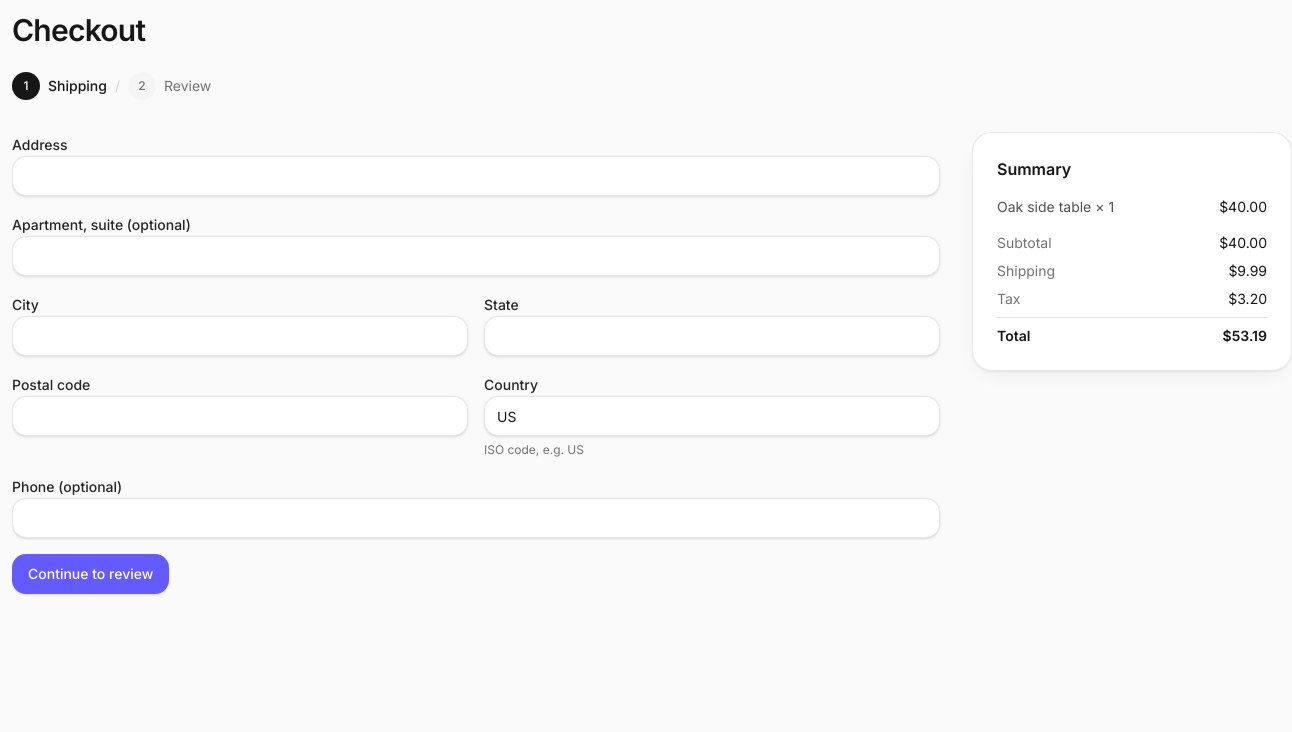
Scenario: Checkout form › validates shipping fields before creating an order
Click the button "Continue to review" at x=91, y=574, box [12,554,169,594]
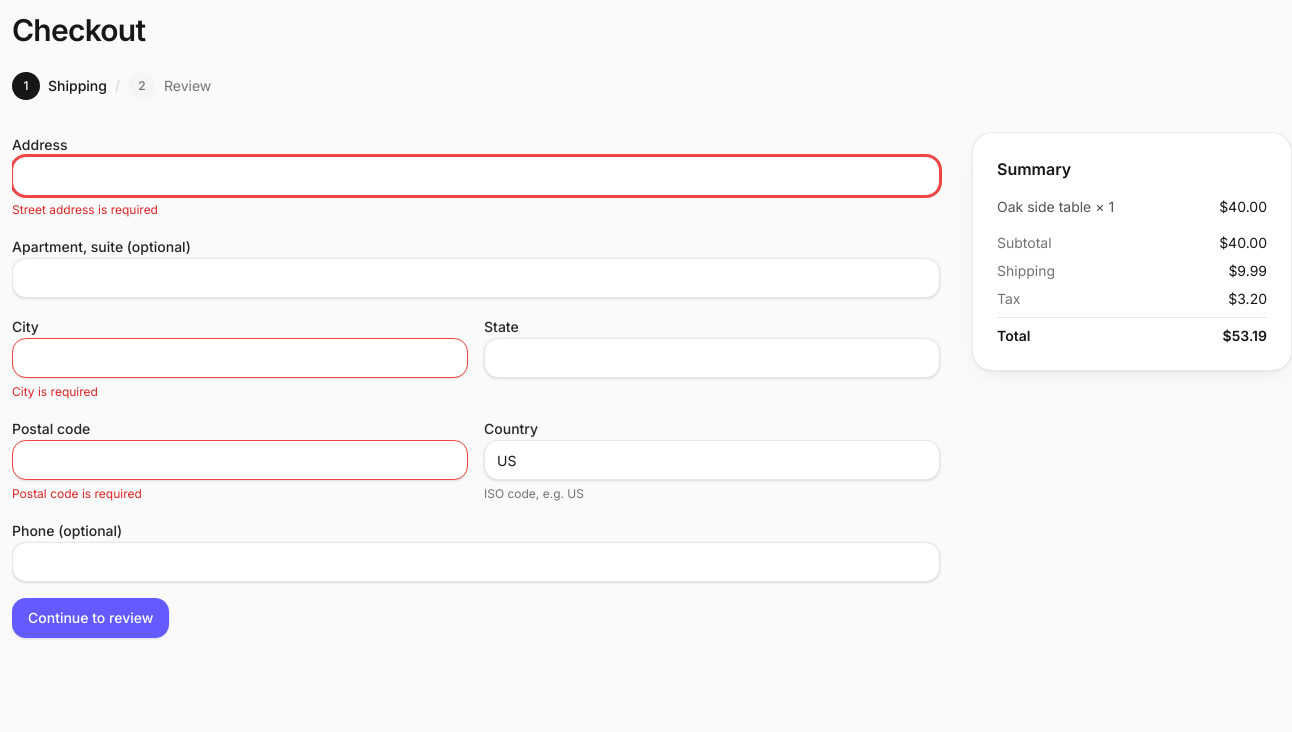
Now the text "Street address is required" is shown, box [12,202,158,217]
Now the text "City is required" is shown, box [12,384,98,399]
Now the text "Postal code is required" is shown, box [12,486,142,501]
